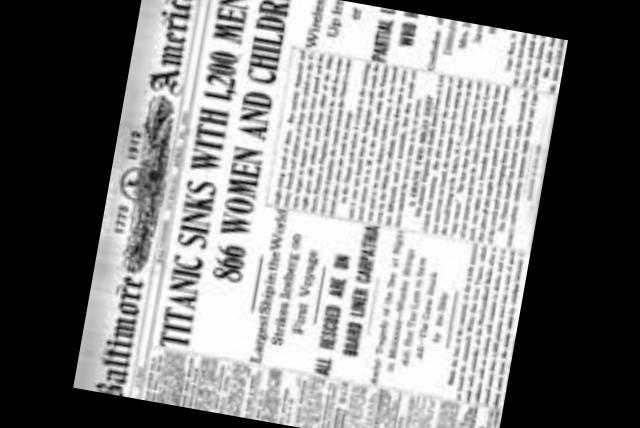cardboard paper: (78, 0, 568, 428)
